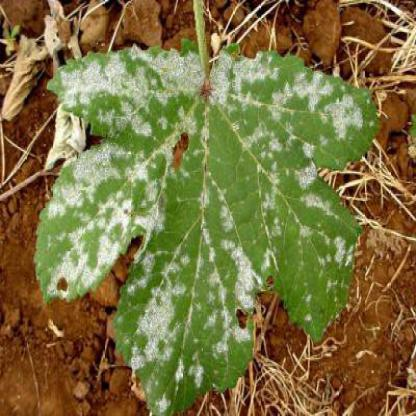squash powdery mildew leaf: (28, 39, 383, 415)
